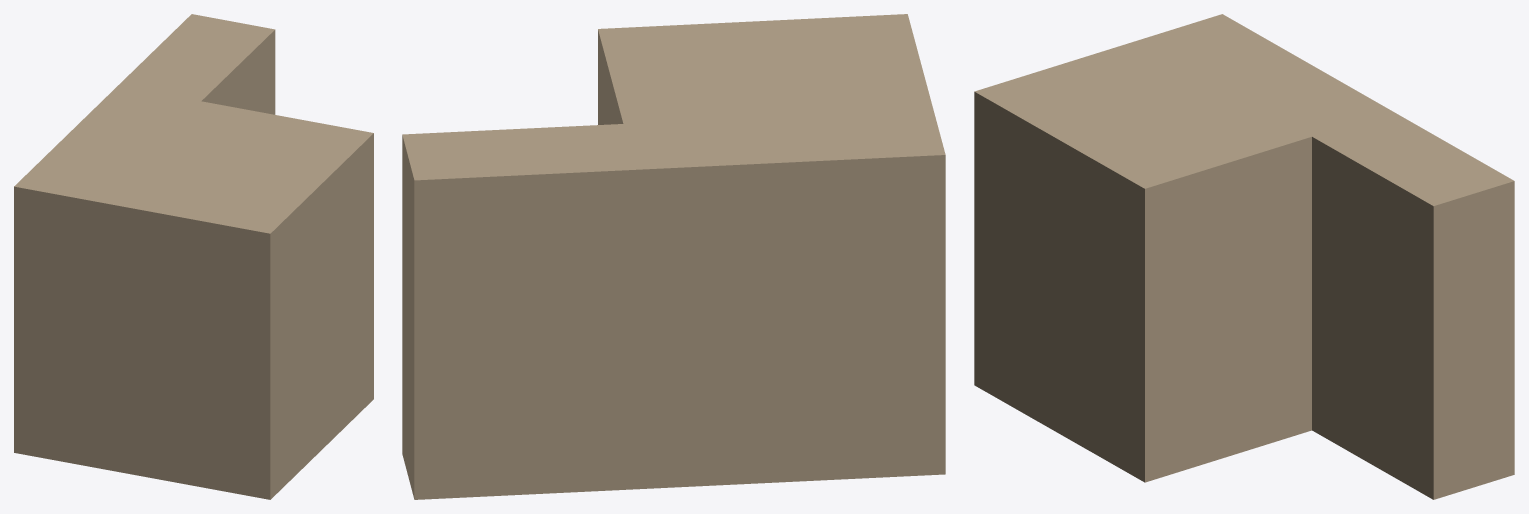
File: bld_106456491.dae
3 views of the same model, side by side, from view 1: azimuth 30°, elevation 25°; view 2: azimuth 150°, elevation 25°; view 3: azimuth 270°, elevation 25° (orthographic). The views are drawn at different scales.
Parts seen in each view (by area): view 1: bld_106456491; view 2: bld_106456491; view 3: bld_106456491.
Boxes of the visible parts, x1,y1,x2,y2 form: bld_106456491: [14, 14, 373, 499]; bld_106456491: [402, 14, 945, 499]; bld_106456491: [974, 14, 1514, 499].
Size of the model in its own units: 11.23 by 13.34 by 8.
